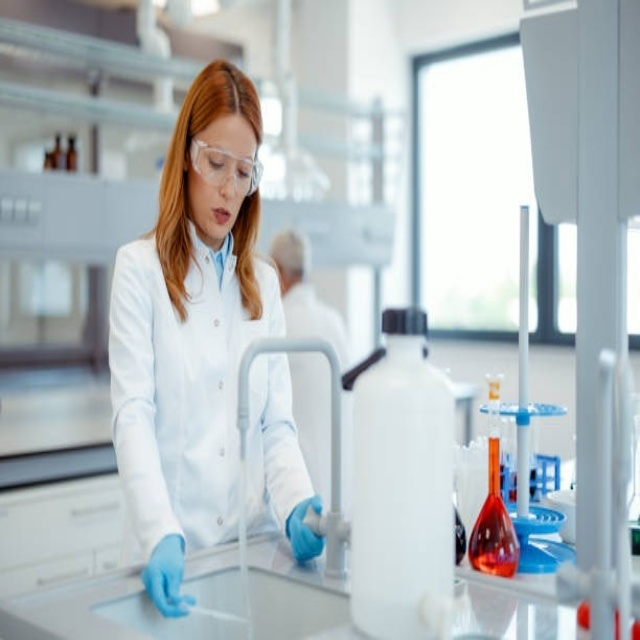Gafas: (190, 136, 262, 196)
Guantes: (142, 533, 195, 619), (286, 494, 324, 563)
Sin_mascara: (206, 202, 234, 238)
